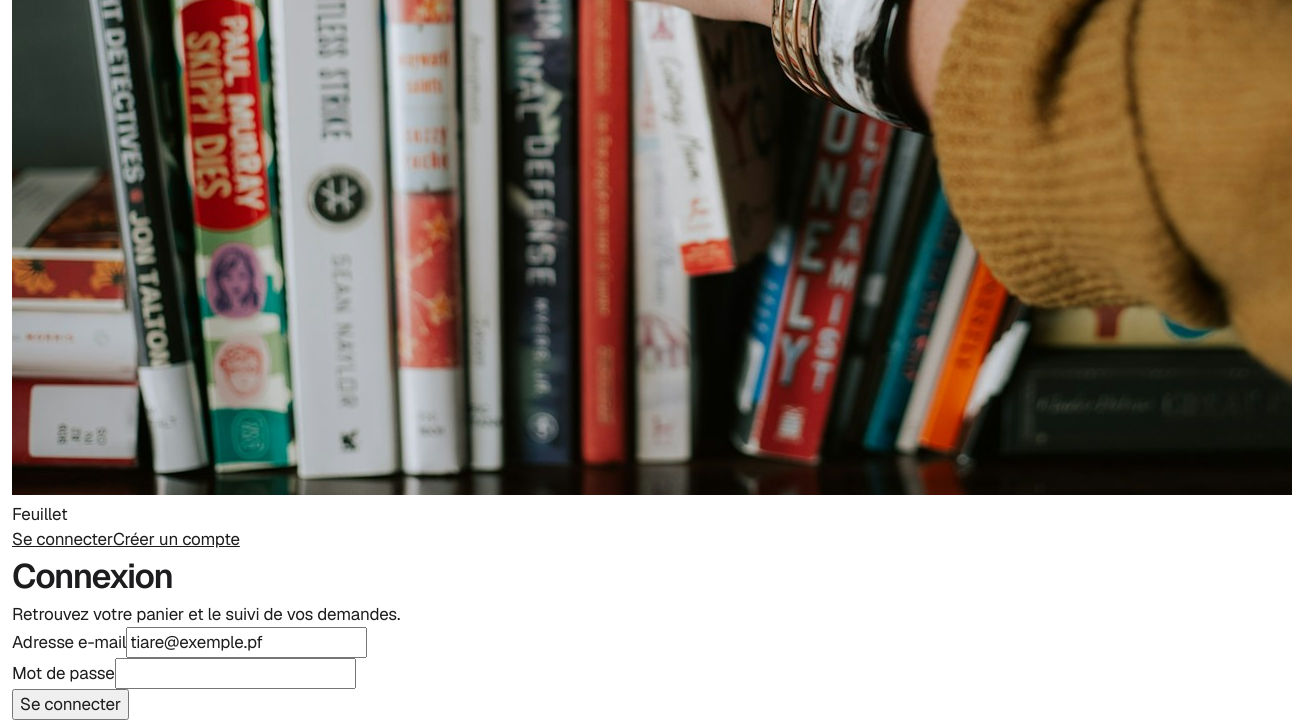
it: page de connexion › envoie l e-mail et le mot de passe puis amène le client au catalogue
Earlier steps of the test are not shown.
(page scrolled)
Step 1. Type "motdepasse1" into the password field labelled "Mot de passe" → (235, 673), box [115,658,356,689]
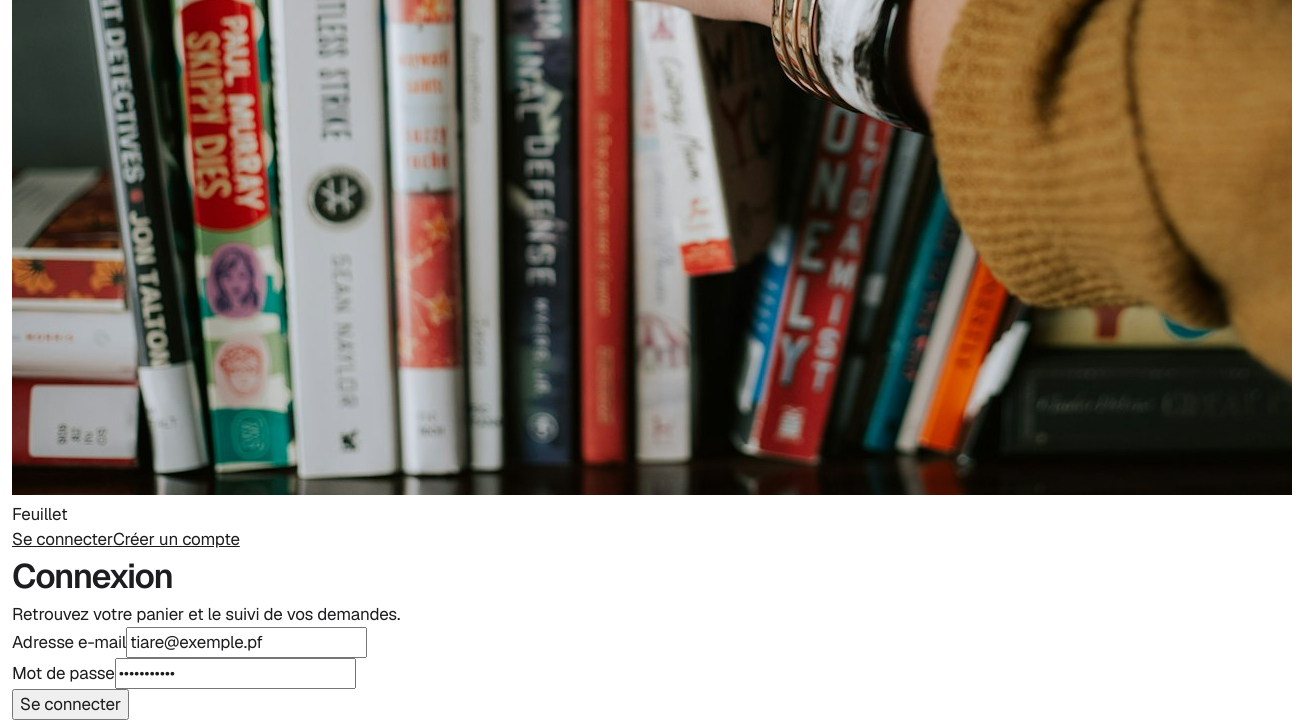
Step 2. Click the button "Se connecter" → (70, 704), box [12,689,129,719]
(page scrolled)
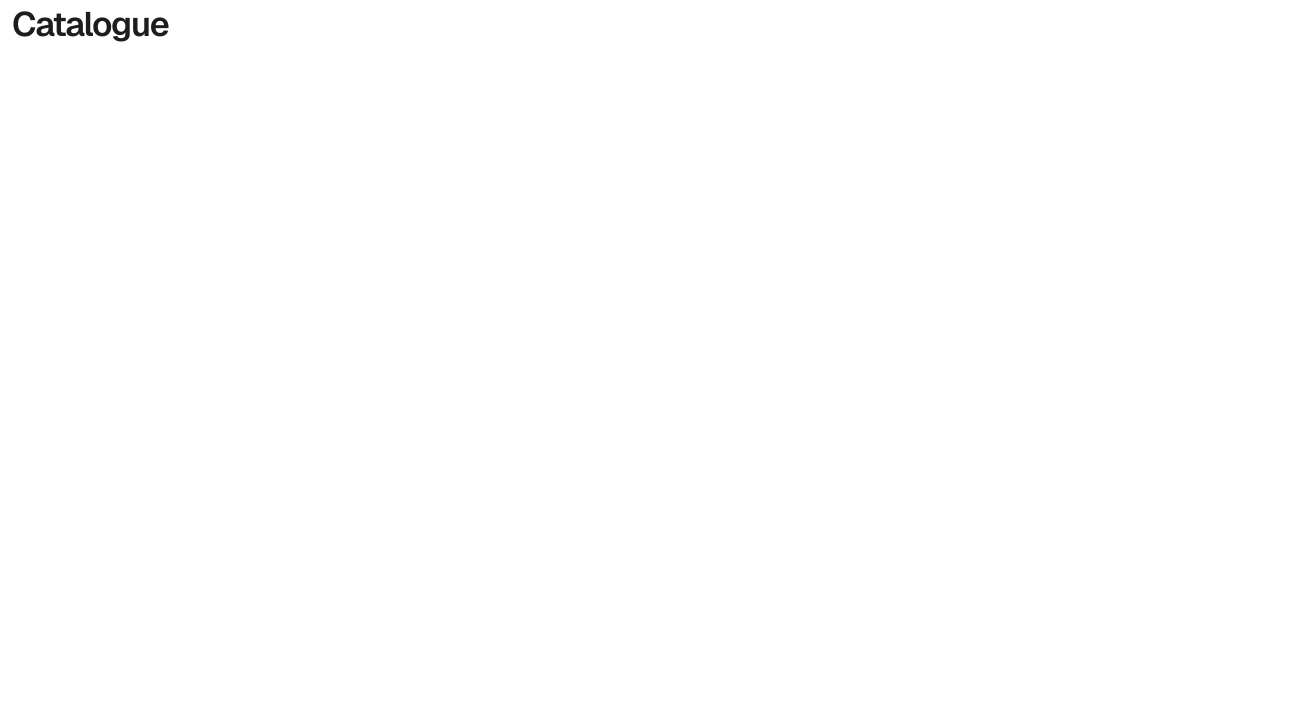
Expected: the heading "Catalogue" is shown, [12,2,168,46]
